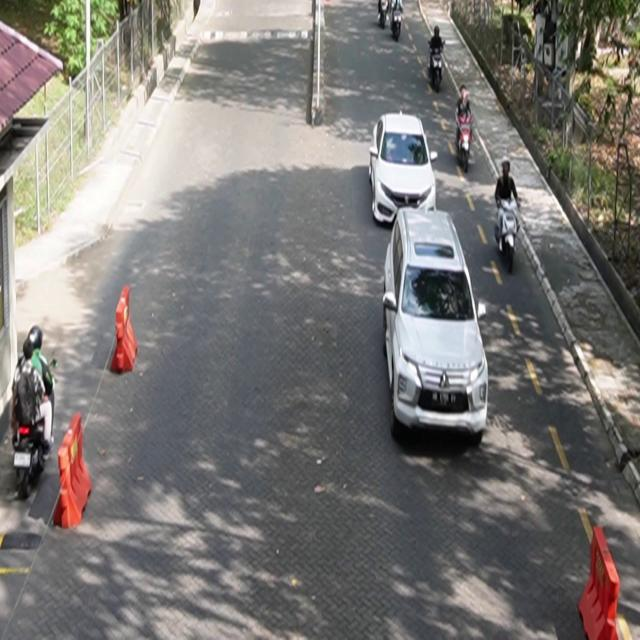car: (383, 207, 490, 443), (369, 111, 439, 227)
